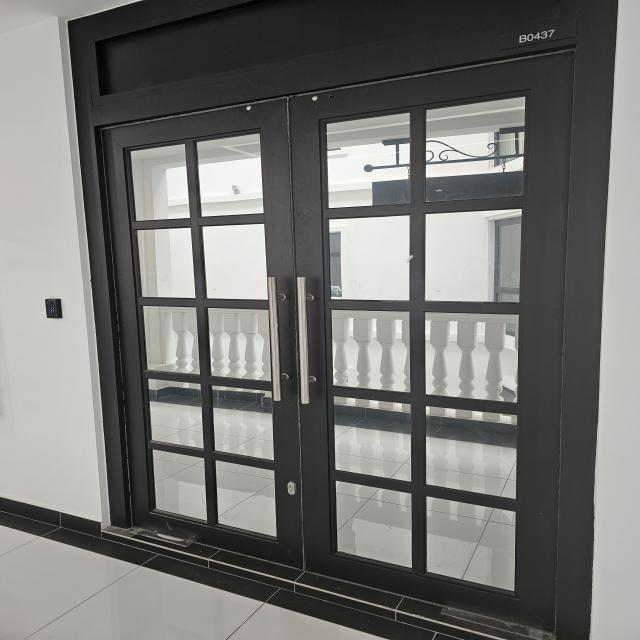door: (66, 1, 616, 638)
